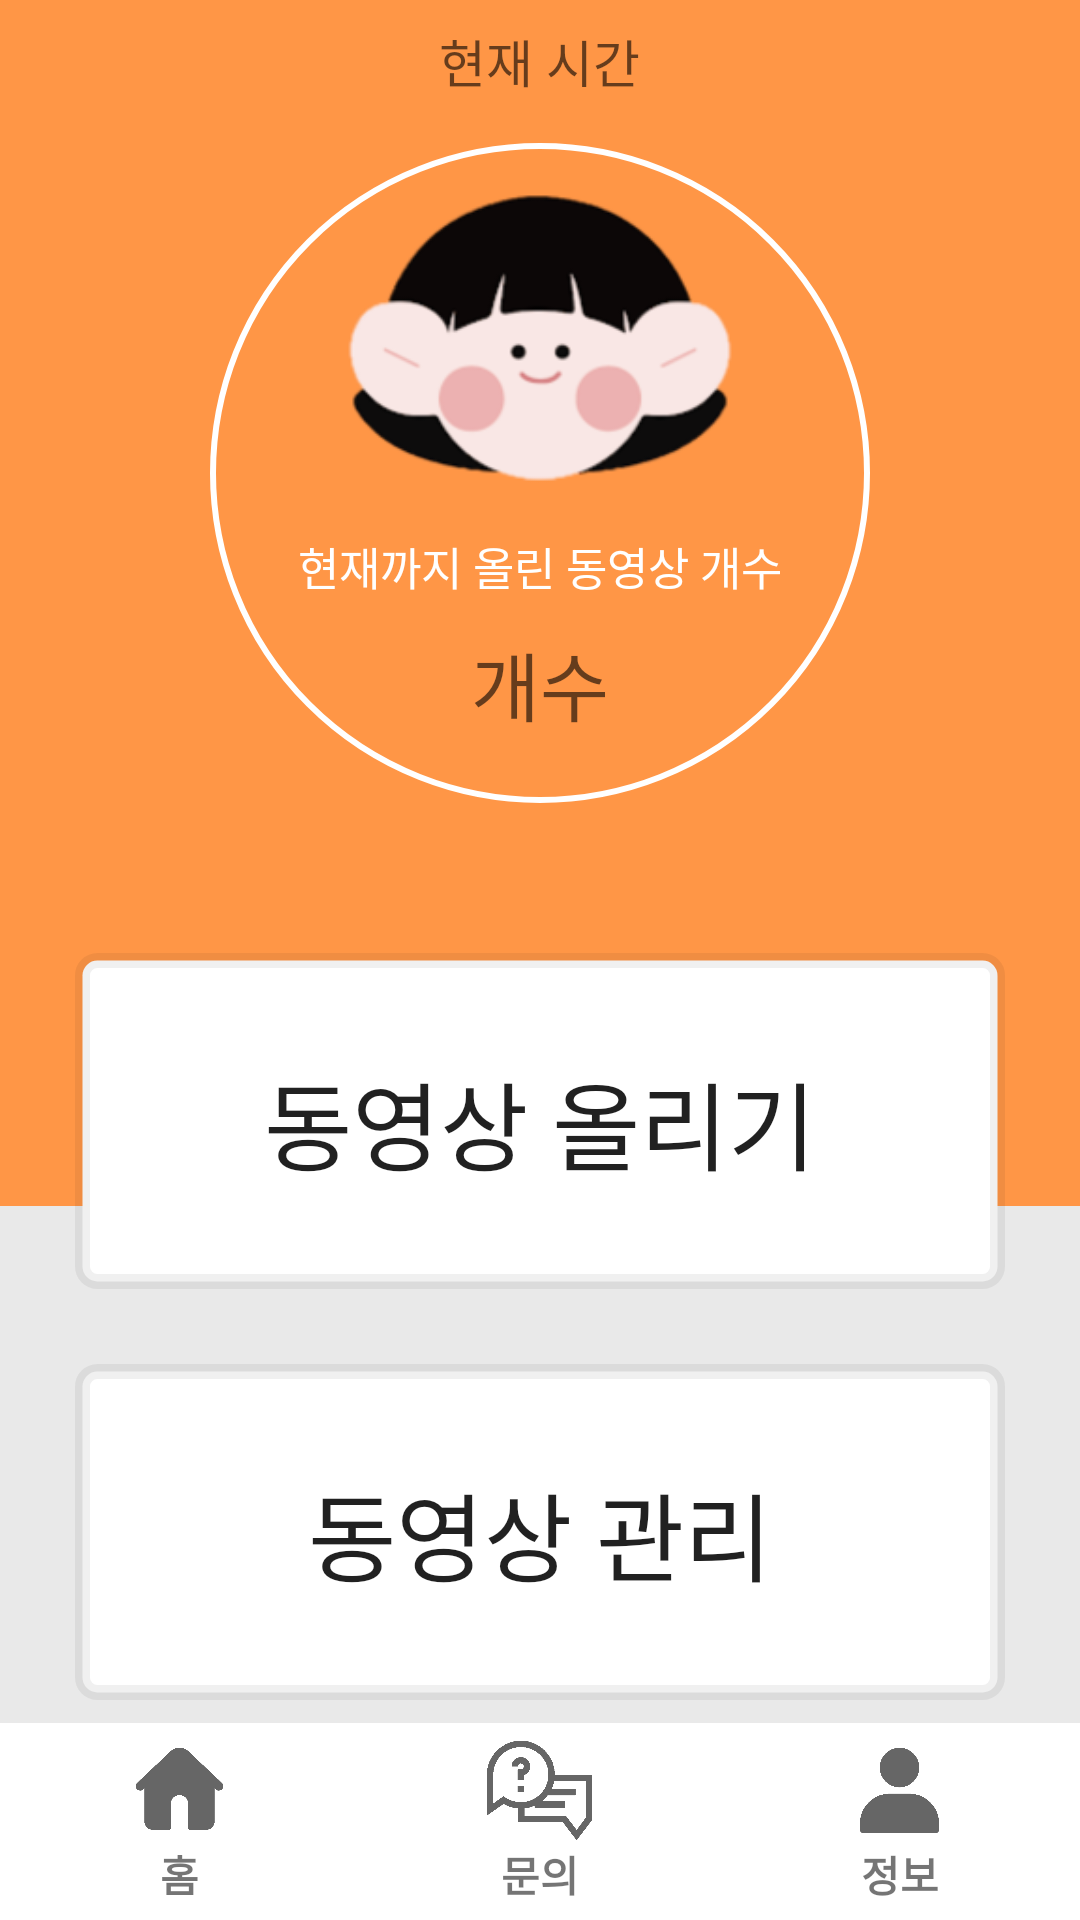

Icon bounding boxes for this 1080x1920 phone screenshot, format (x1, y1, x2, y2):
person: (860, 1748, 939, 1833)
